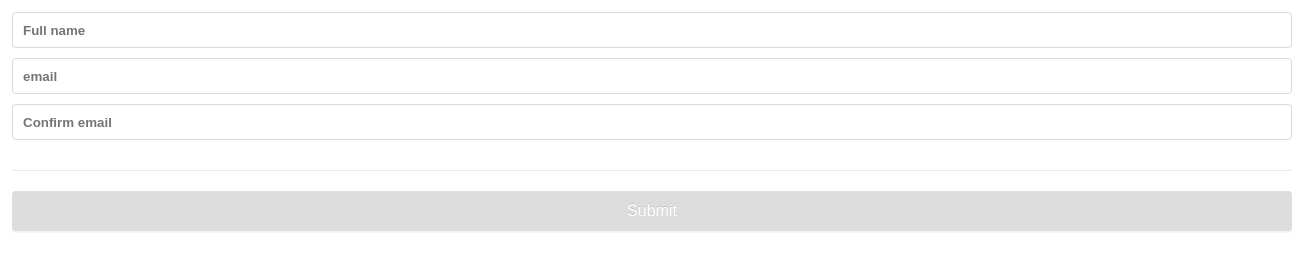
page home form › form submit error and success
Step 1. Type "123" into the field named "fullName" → (652,30), box left=12, top=12, right=1292, bottom=48
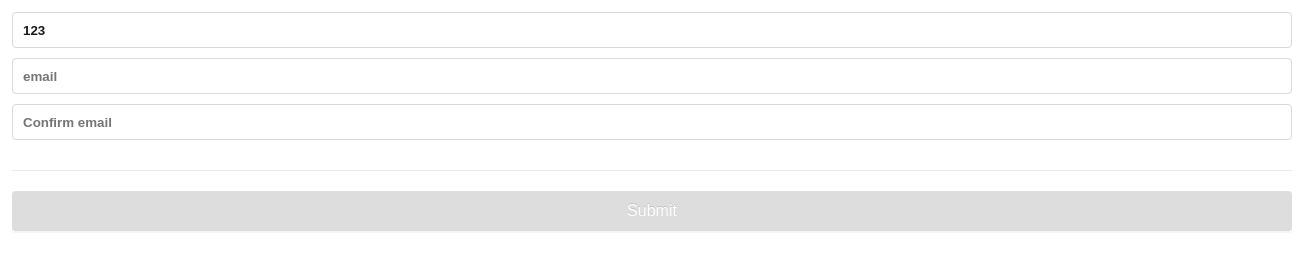
Step 2. Type "test@test.com" into the field named "email" → (652,76), box left=12, top=58, right=1292, bottom=94
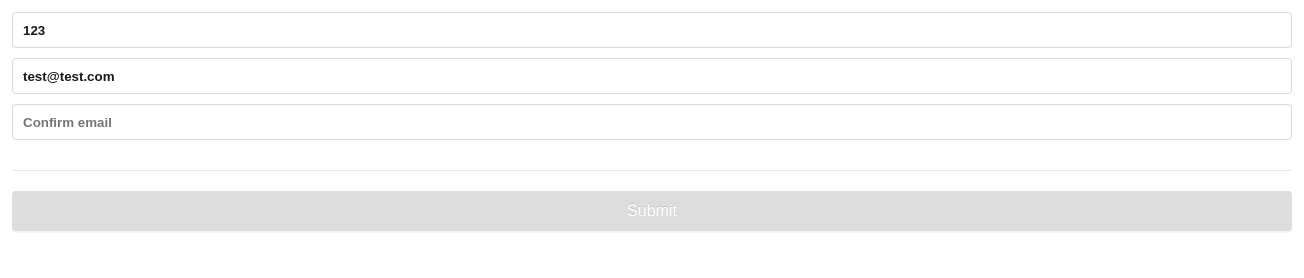
Step 3. Type "test@test.com" into the field named "confirmEmail" → (652,122), box left=12, top=104, right=1292, bottom=140
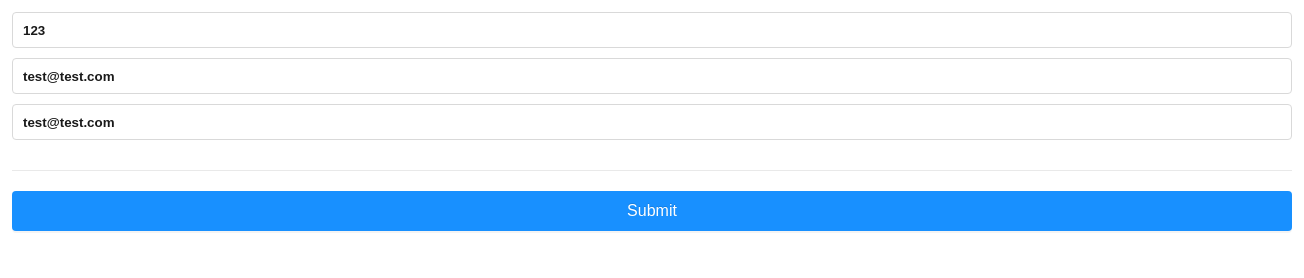
Step 4. Click the submit button → (652,211), box left=12, top=191, right=1292, bottom=231
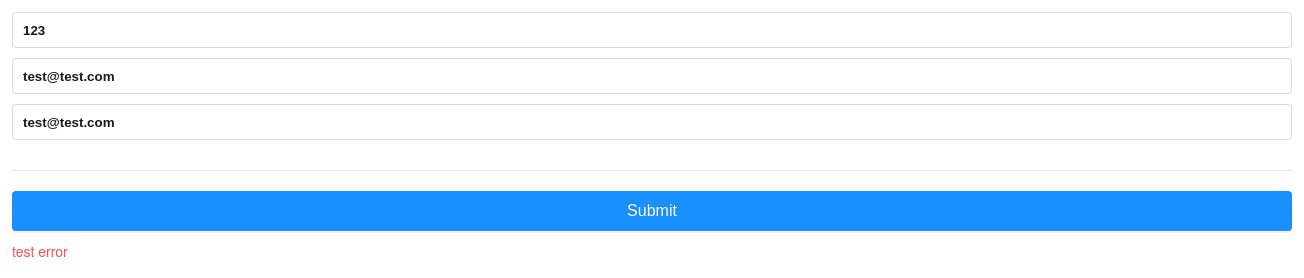
Expected: the text "test error" is shown, left=12, top=241, right=68, bottom=261
Step 5. Click the submit button → (652,211), box left=12, top=191, right=1292, bottom=231
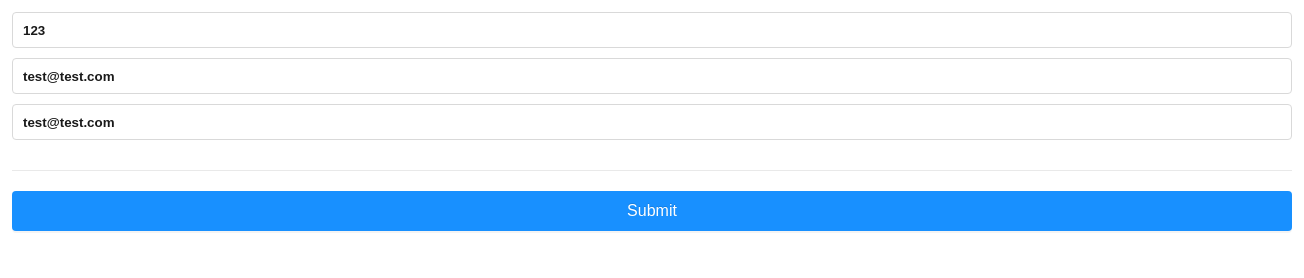
Expected: the text "test error" is gone
